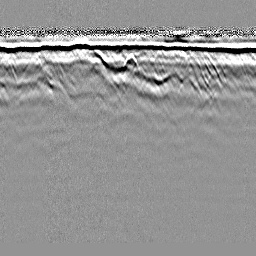cavity: (123, 51, 138, 66)
